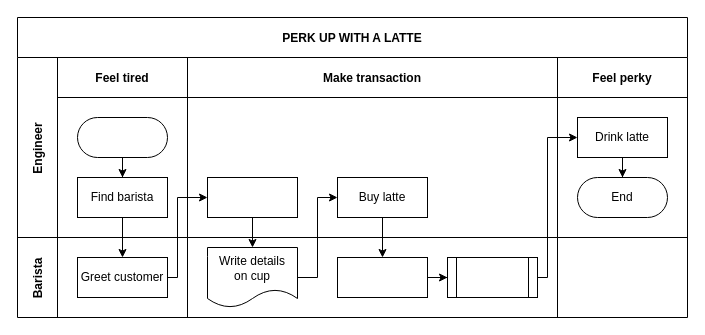
The diagram is 705 pixels wide and 335 high, and some of its shapes have lost their labels. The centre of each missing label's shape, as x and y in pixels:
Accept payment: (382,277)
Make latte: (492,277)
Request latte: (252,197)
Start: (122,137)
